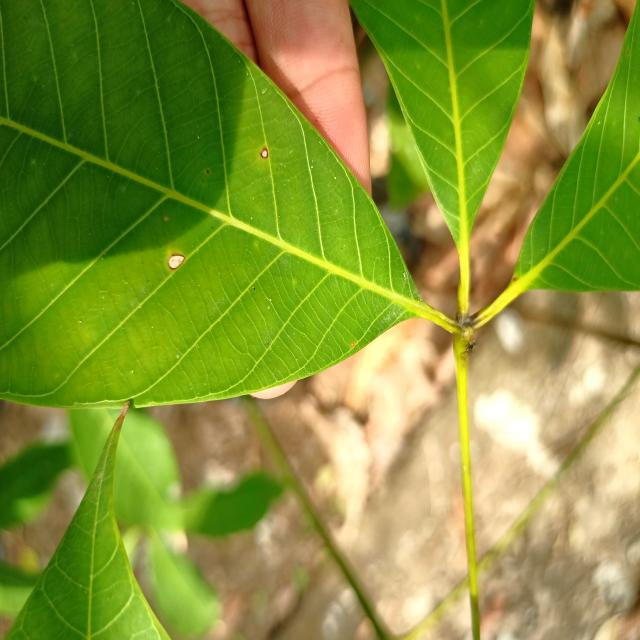Colletotrichum: (168, 253, 185, 270), (261, 148, 268, 159)
